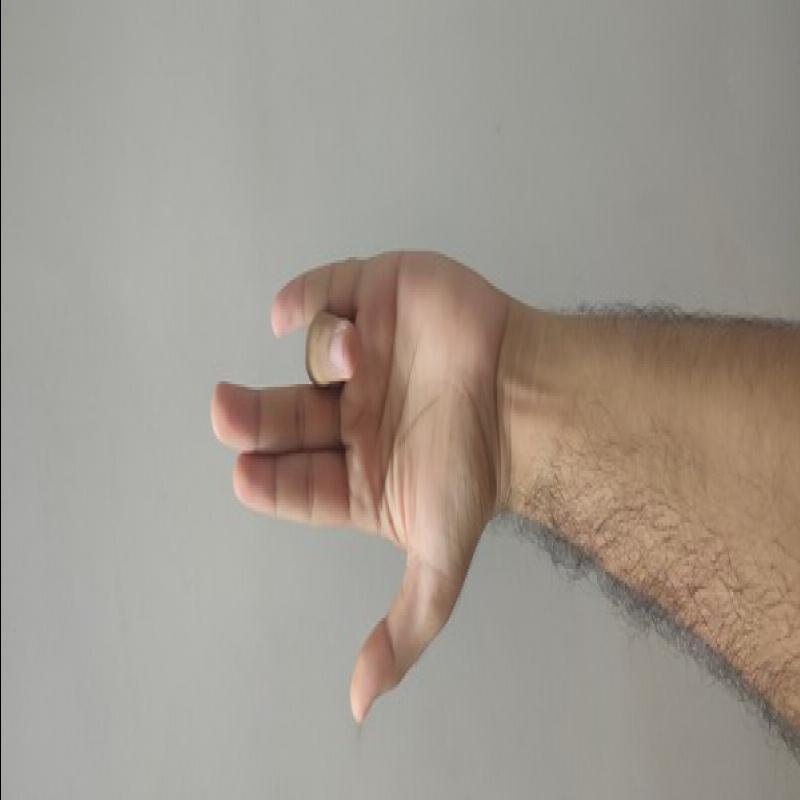Pathaaka: (206, 228, 517, 732)
